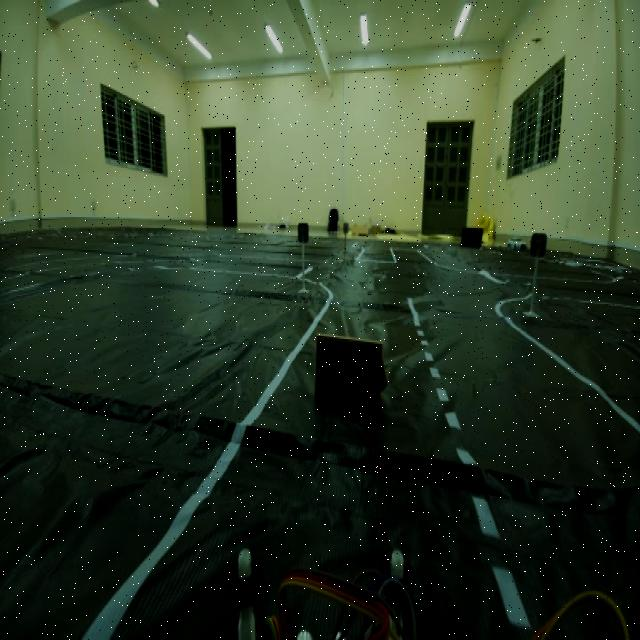roadblock: (313, 323, 395, 417)
